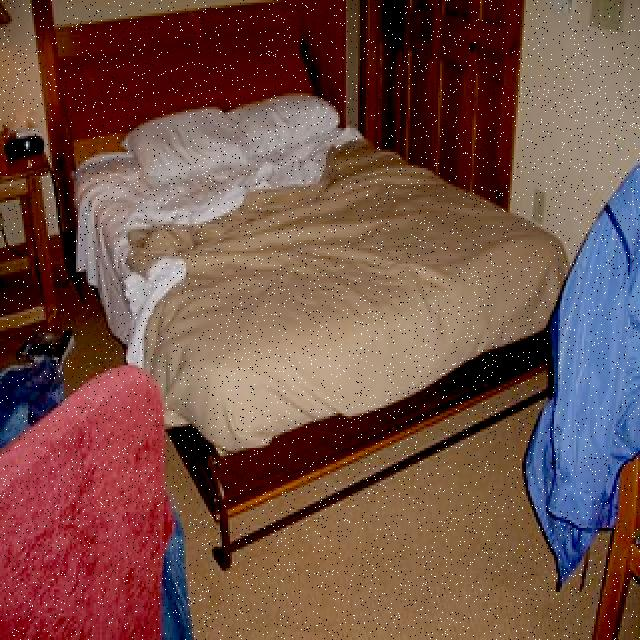bed: (59, 55, 525, 458)
